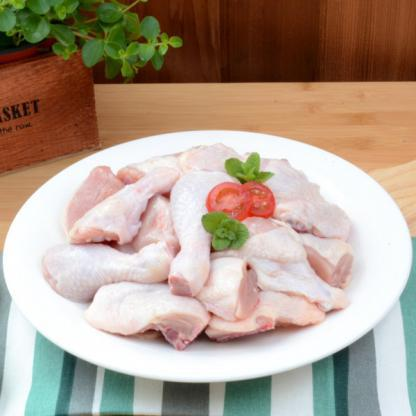chicken: (70, 156, 182, 246), (162, 169, 242, 290), (84, 283, 225, 349), (240, 226, 351, 304), (44, 238, 174, 291)
